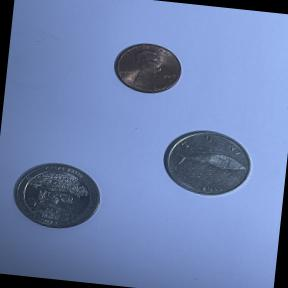coin: (2, 153, 109, 238), (156, 124, 260, 204), (105, 37, 189, 101)
